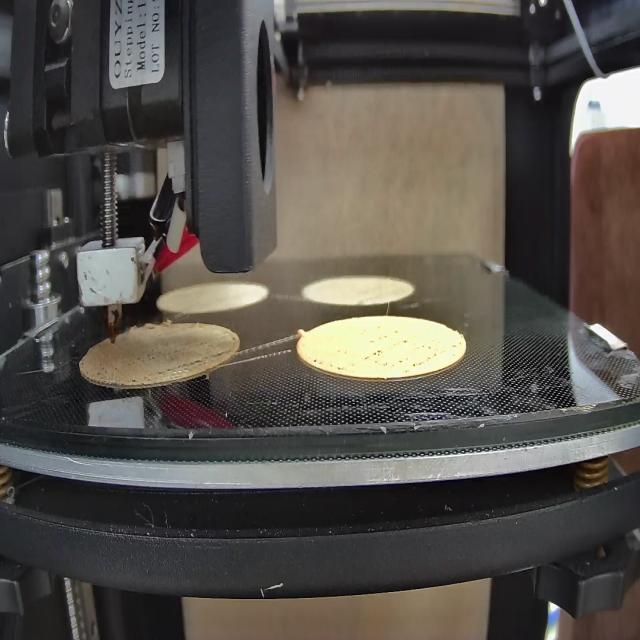under_extrusion: (312, 339, 461, 370), (77, 348, 140, 389), (158, 345, 232, 378)
